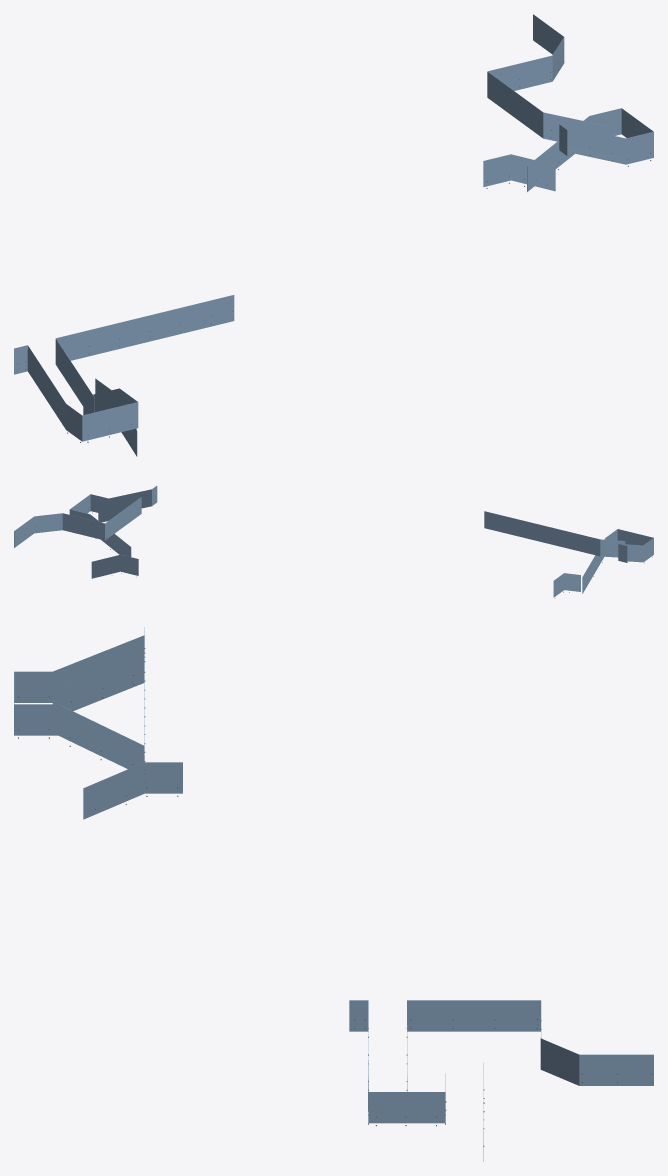
Rendered from Glass_border.fbx.
3 views of the same model, one above another, from view 1: azimuth 30°, elevation 25°; view 2: azimuth 150°, elevation 25°; view 3: azimuth 270°, elevation 25° (orthographic). The views are drawn at different scales.
Visible parts, largest first — view 1: SM_glass_border; view 2: SM_glass_border; view 3: SM_glass_border.
Boxes of the visible parts, x1=… form: SM_glass_border: x1=14, y1=14, x2=653, y2=456; SM_glass_border: x1=14, y1=486, x2=653, y2=597; SM_glass_border: x1=14, y1=627, x2=653, y2=1161.
Size of the model in its own units: 5284 by 780 by 3336.
